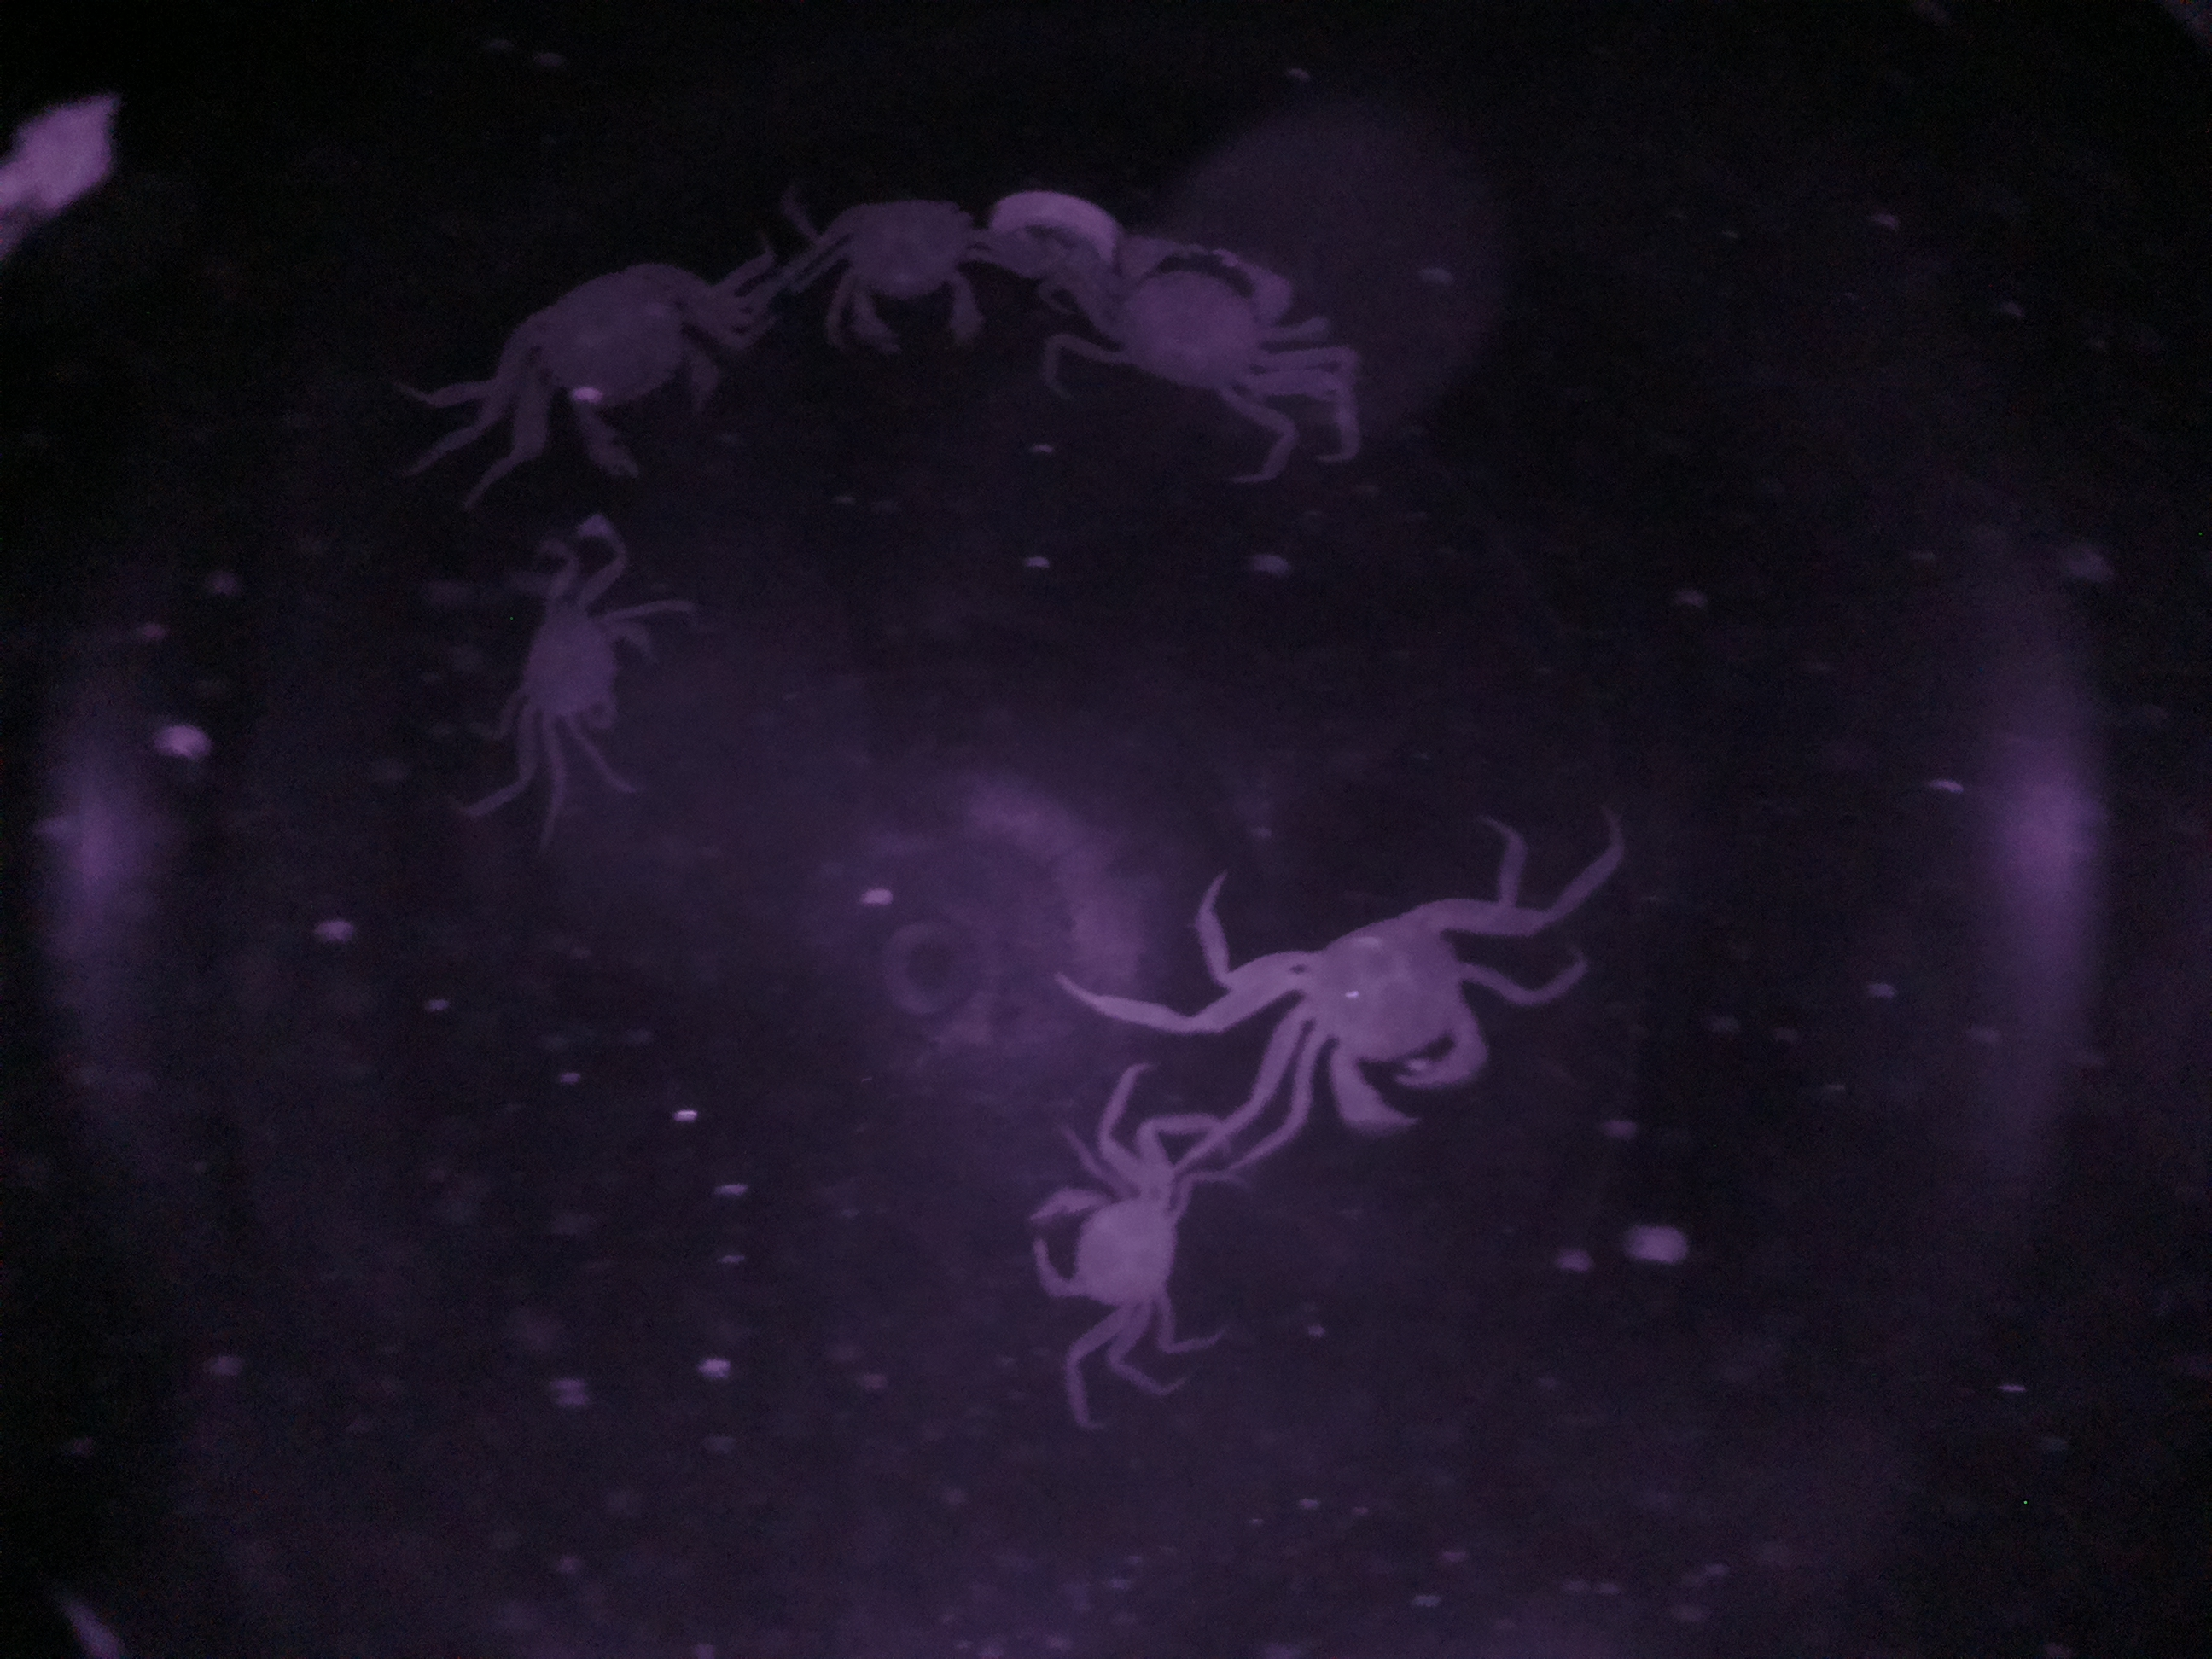Crab: (1223, 875, 1508, 1154), (503, 221, 738, 500), (1061, 228, 1313, 416), (789, 190, 1012, 375), (1012, 1129, 1193, 1340), (507, 549, 662, 795)
